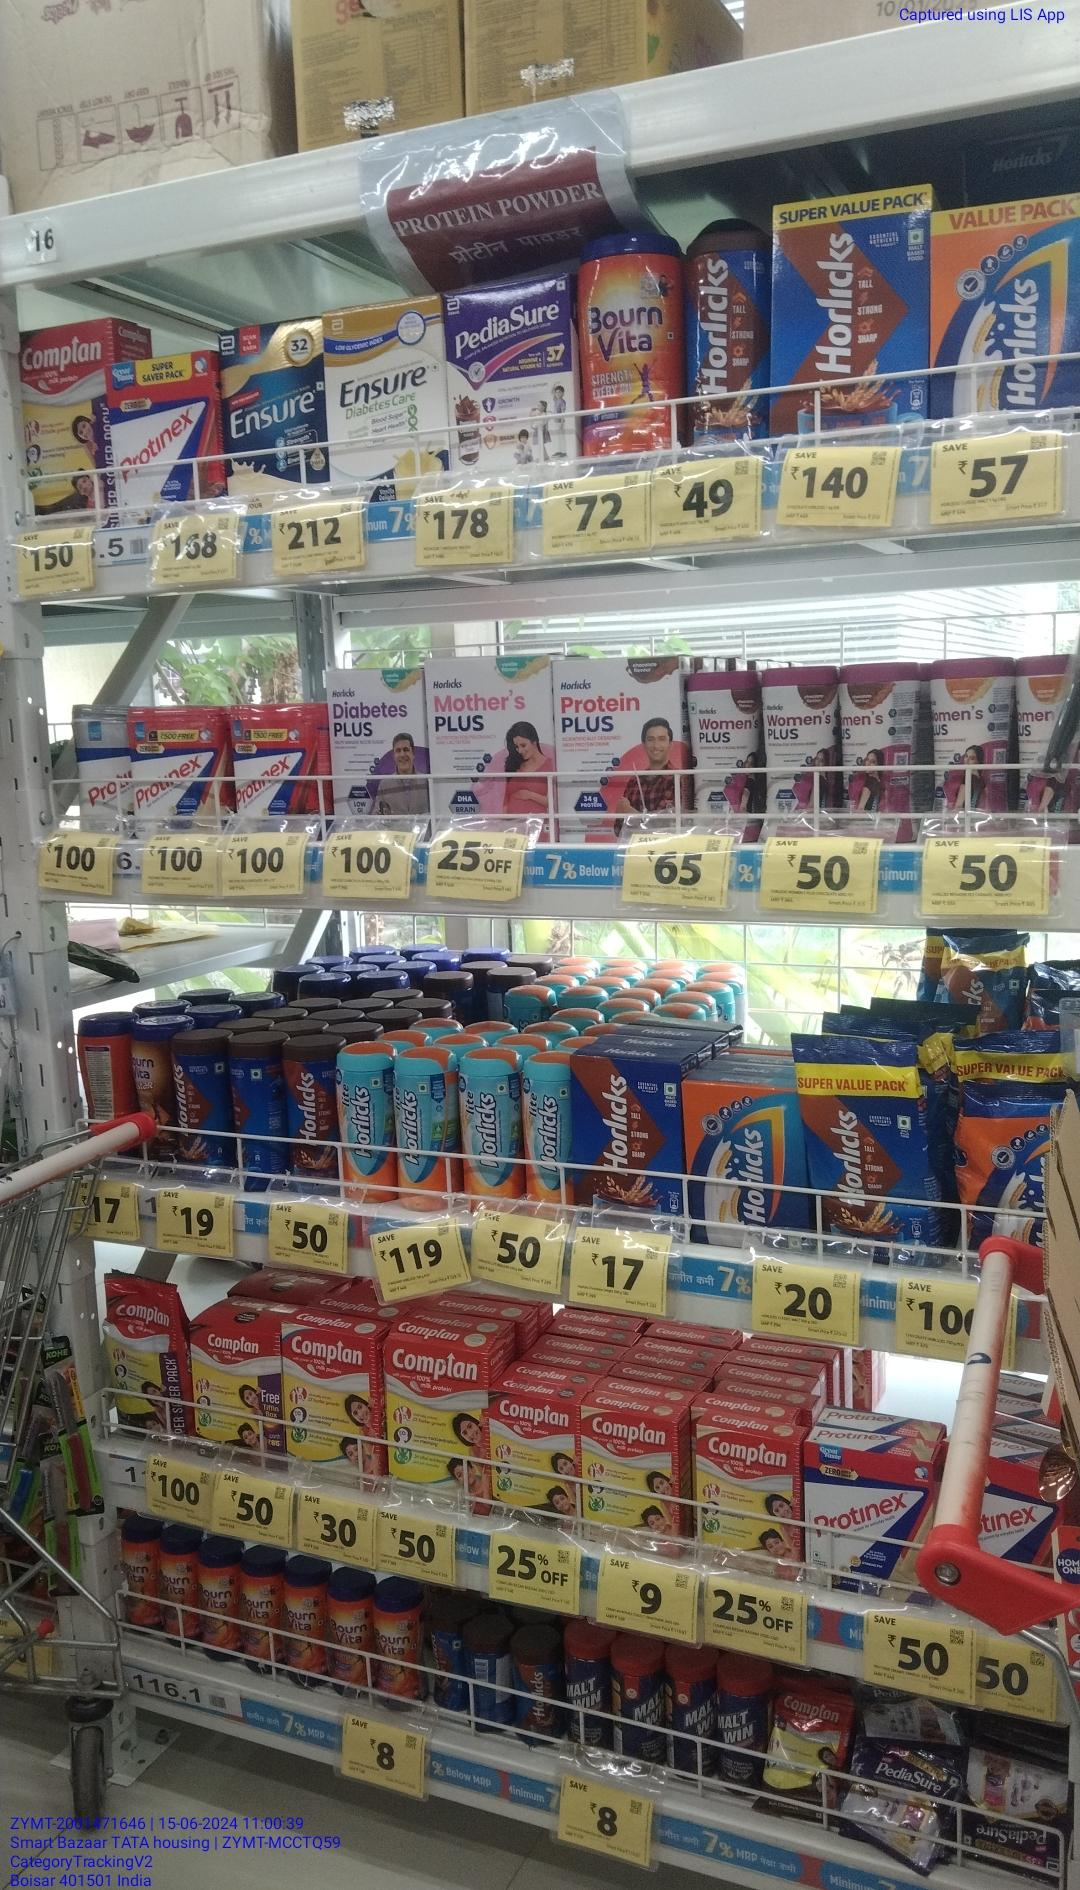BOURN_VITA_1_KG_JAR: (583, 238, 680, 456)
BOURN_VITA_500_G_JAR: (375, 1582, 426, 1713), (327, 1577, 374, 1698), (200, 1542, 240, 1664), (284, 1565, 323, 1690), (241, 1554, 279, 1673), (121, 1520, 158, 1634), (160, 1537, 197, 1647)
COMPLAN_CHOCOLATE_1_KG_PACK: (775, 192, 924, 423), (22, 325, 113, 511)
COMPLAN_CHOCOLATE_200_GMS_PACK: (492, 1390, 578, 1528)
COMPLAN_CHOCOLATE_500_GMS_PACK: (193, 1325, 283, 1468)
COMPLAN_CREAMY_CLASSIC_500_G_PACK: (383, 1342, 489, 1508), (288, 1323, 375, 1489)
COMPLAN_KESAR_BADAM_200_GMS_PACK: (697, 1425, 800, 1575), (584, 1408, 679, 1540)
COMPLAN_RC_POUCH_700_GMS_12: (109, 1277, 190, 1445)
ENSURE_VANILLA_400_G_PACK: (328, 309, 444, 476), (222, 331, 325, 483)
HORLICKS_LITE_REGULAR_MALT_500_GM_JAR: (400, 1049, 463, 1212), (339, 1048, 396, 1202), (469, 1051, 522, 1203), (526, 1058, 571, 1214)
HORLICK_CHOCOLATE_1_KG_JAR: (689, 230, 766, 441)
HORLICK_CHOCOLATE_200_G_JAR: (510, 1636, 562, 1747), (432, 1617, 463, 1712)
HORLICK_CHOCOLATE_500_G_JAR: (286, 1041, 335, 1194), (173, 1037, 226, 1177)
HORLICK_CHOCOLATE_500_G_PACK: (579, 1054, 683, 1231)
HORLICK_CHOCOLATE_750_G_POUCH: (813, 1041, 935, 1262)
HORLICK_CLASSIC_MALT_500_G_PACK: (687, 1084, 806, 1250)
PROTINEX_CHOCOLATE_400_G_JAR: (232, 706, 321, 828)
PROTINEX_VANILLA_400_G_JAR: (130, 706, 226, 836)
